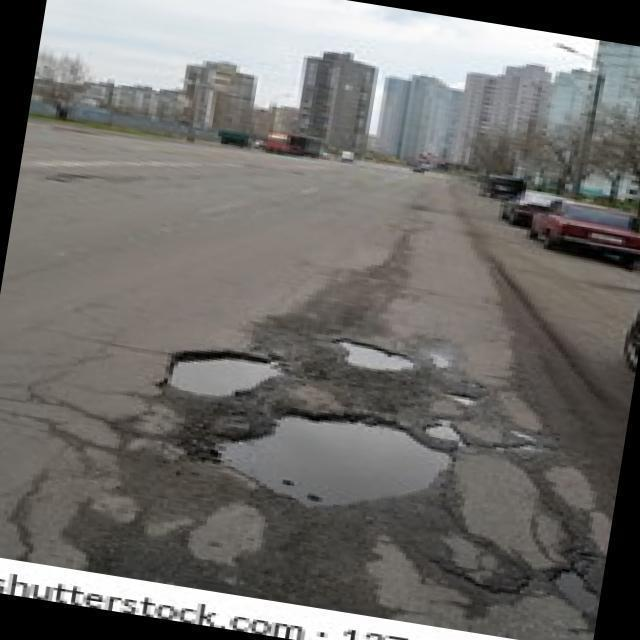pothole: (201, 393, 457, 526), (151, 335, 284, 410), (541, 548, 607, 617), (333, 337, 420, 378), (425, 417, 470, 447), (450, 391, 478, 409)
